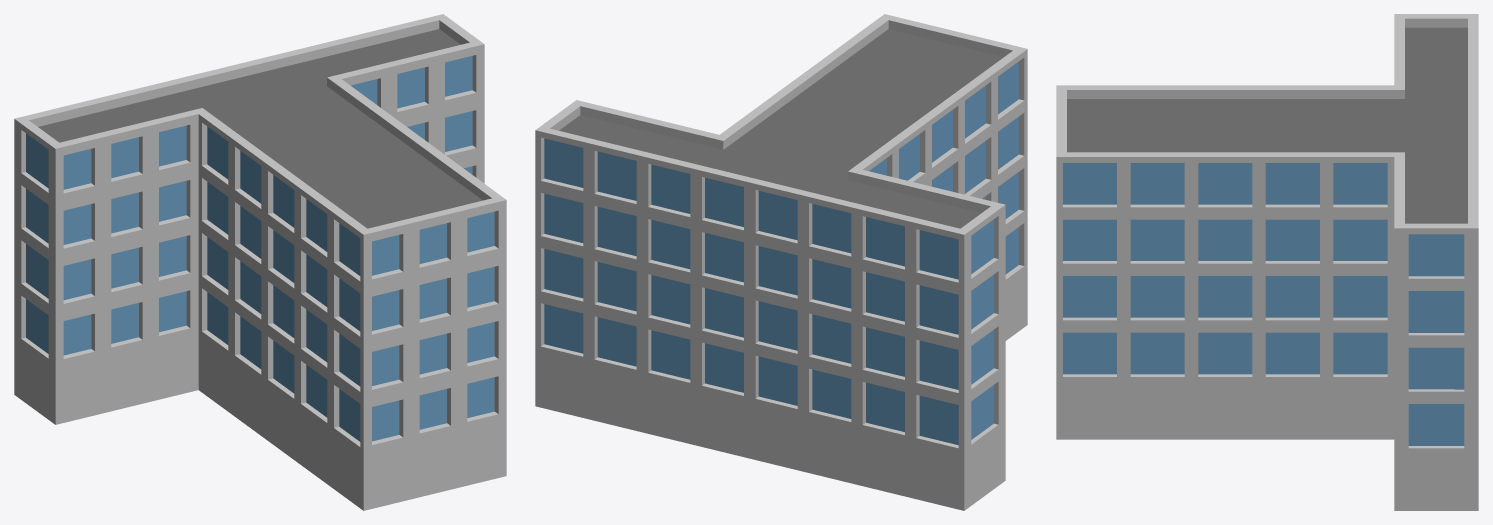
The model's file is building2.fbx.
3 renders of one model, left to right at view 1: azimuth 30°, elevation 25°; view 2: azimuth 150°, elevation 25°; view 3: azimuth 270°, elevation 25°, orthographic. The views are drawn at different scales.
Parts seen in each view (by area): view 1: polySurface1; view 2: polySurface1; view 3: polySurface1.
Boxes of the visible parts, left/top/right/bottom form: polySurface1: left=14, top=14, right=506, bottom=510; polySurface1: left=535, top=14, right=1027, bottom=510; polySurface1: left=1056, top=14, right=1478, bottom=510.
Size of the model in its own units: 157 by 96.86 by 131.
